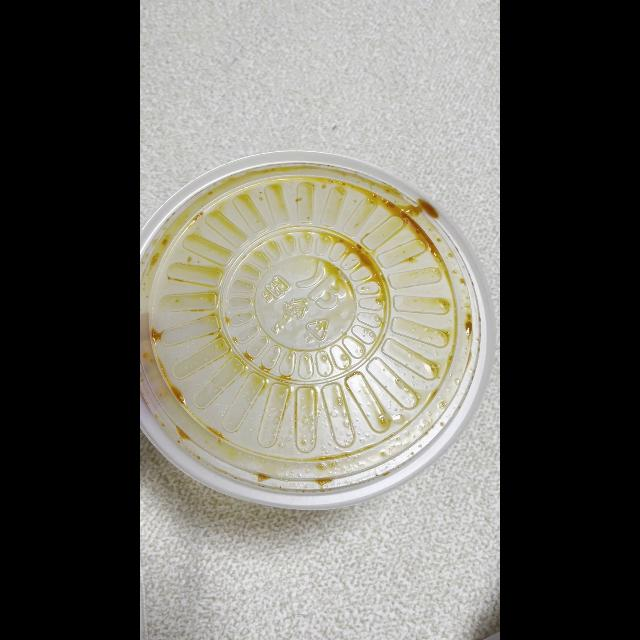dirty: (142, 150, 500, 506)
